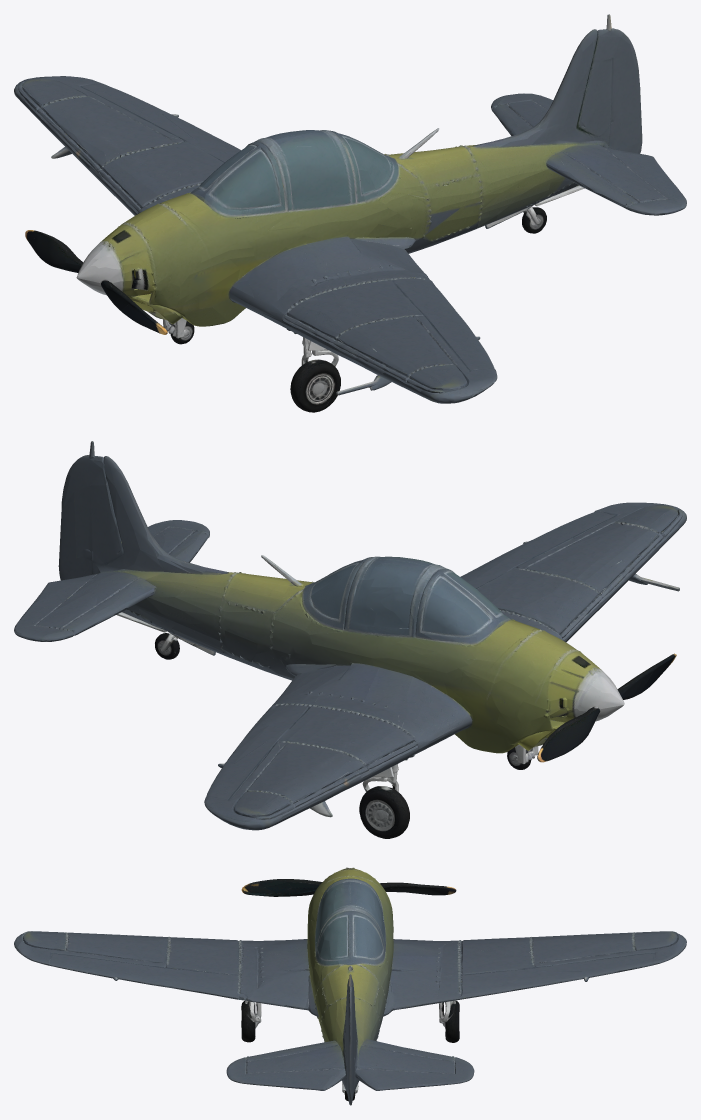
File: plane-upgrade-1.glb
3 renders of one model, top to bottom at view 1: azimuth 30°, elevation 25°; view 2: azimuth 150°, elevation 25°; view 3: azimuth 270°, elevation 25°, orthographic. The views are drawn at different scales.
Size of the model in its own units: 1.43 by 0.6297 by 1.9.
1 material, 1 textured.
